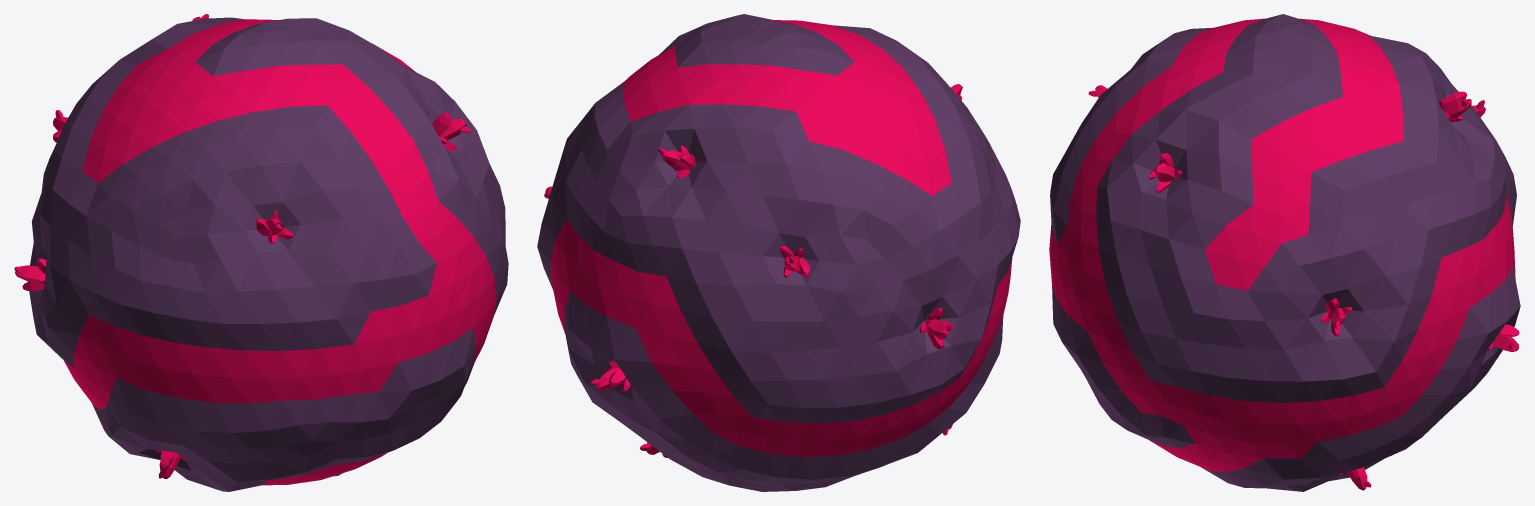
File: crystalPlanet.fbx
The picture shows the model from 3 angles, left to right: view 1: azimuth 30°, elevation 25°; view 2: azimuth 150°, elevation 25°; view 3: azimuth 270°, elevation 25°; orthographic projection.
Parts seen in each view (by area): view 1: Icosphere, Cube.007, Cube.002, Cube.006; view 2: Icosphere, Cube.002, Cube, Cube.001, Cube.003; view 3: Icosphere, Cube.007, Cube, Cube.008, Cube.003.
Boxes of the visible parts, x1=… form: Icosphere: x1=27, y1=17, x2=508, y2=491; Cube.007: x1=432, y1=112, x2=470, y2=150; Cube.002: x1=14, y1=258, x2=46, y2=291; Cube.006: x1=255, y1=211, x2=293, y2=243; Icosphere: x1=537, y1=14, x2=1020, y2=491; Cube.002: x1=919, y1=308, x2=953, y2=349; Cube: x1=658, y1=146, x2=695, y2=178; Cube.001: x1=779, y1=246, x2=810, y2=277; Cube.003: x1=590, y1=361, x2=630, y2=391; Icosphere: x1=1049, y1=14, x2=1520, y2=491; Cube.007: x1=1148, y1=153, x2=1182, y2=192; Cube: x1=1439, y1=91, x2=1471, y2=121; Cube.008: x1=1321, y1=297, x2=1352, y2=336; Cube.003: x1=1487, y1=324, x2=1519, y2=351.
Size of the model in its own units: 528 by 516 by 509.
